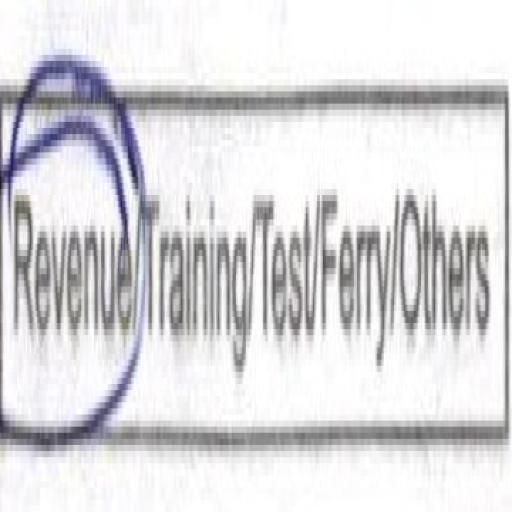check: (0, 0, 144, 449)
